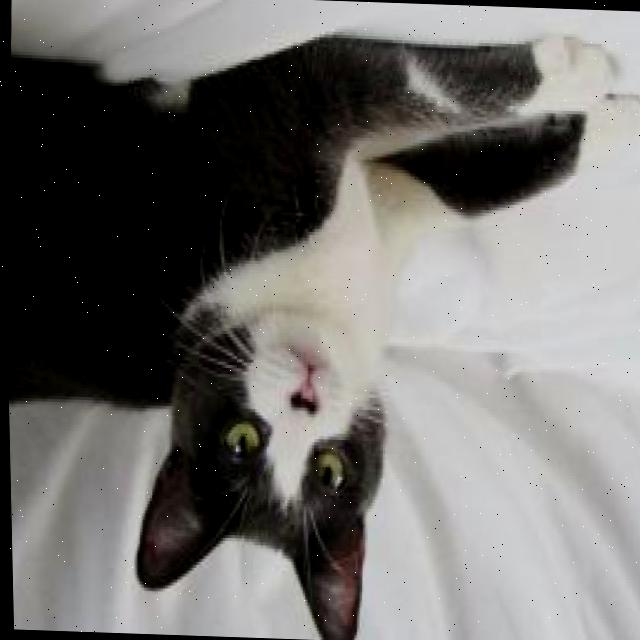Tuxedo: (0, 11, 640, 640)
